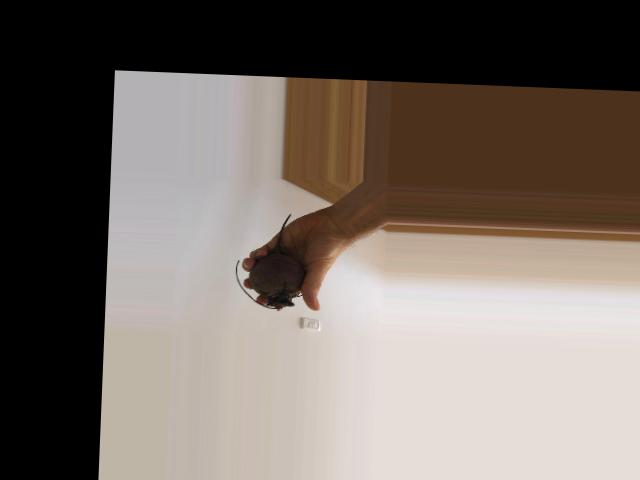beet: (233, 211, 305, 311)
